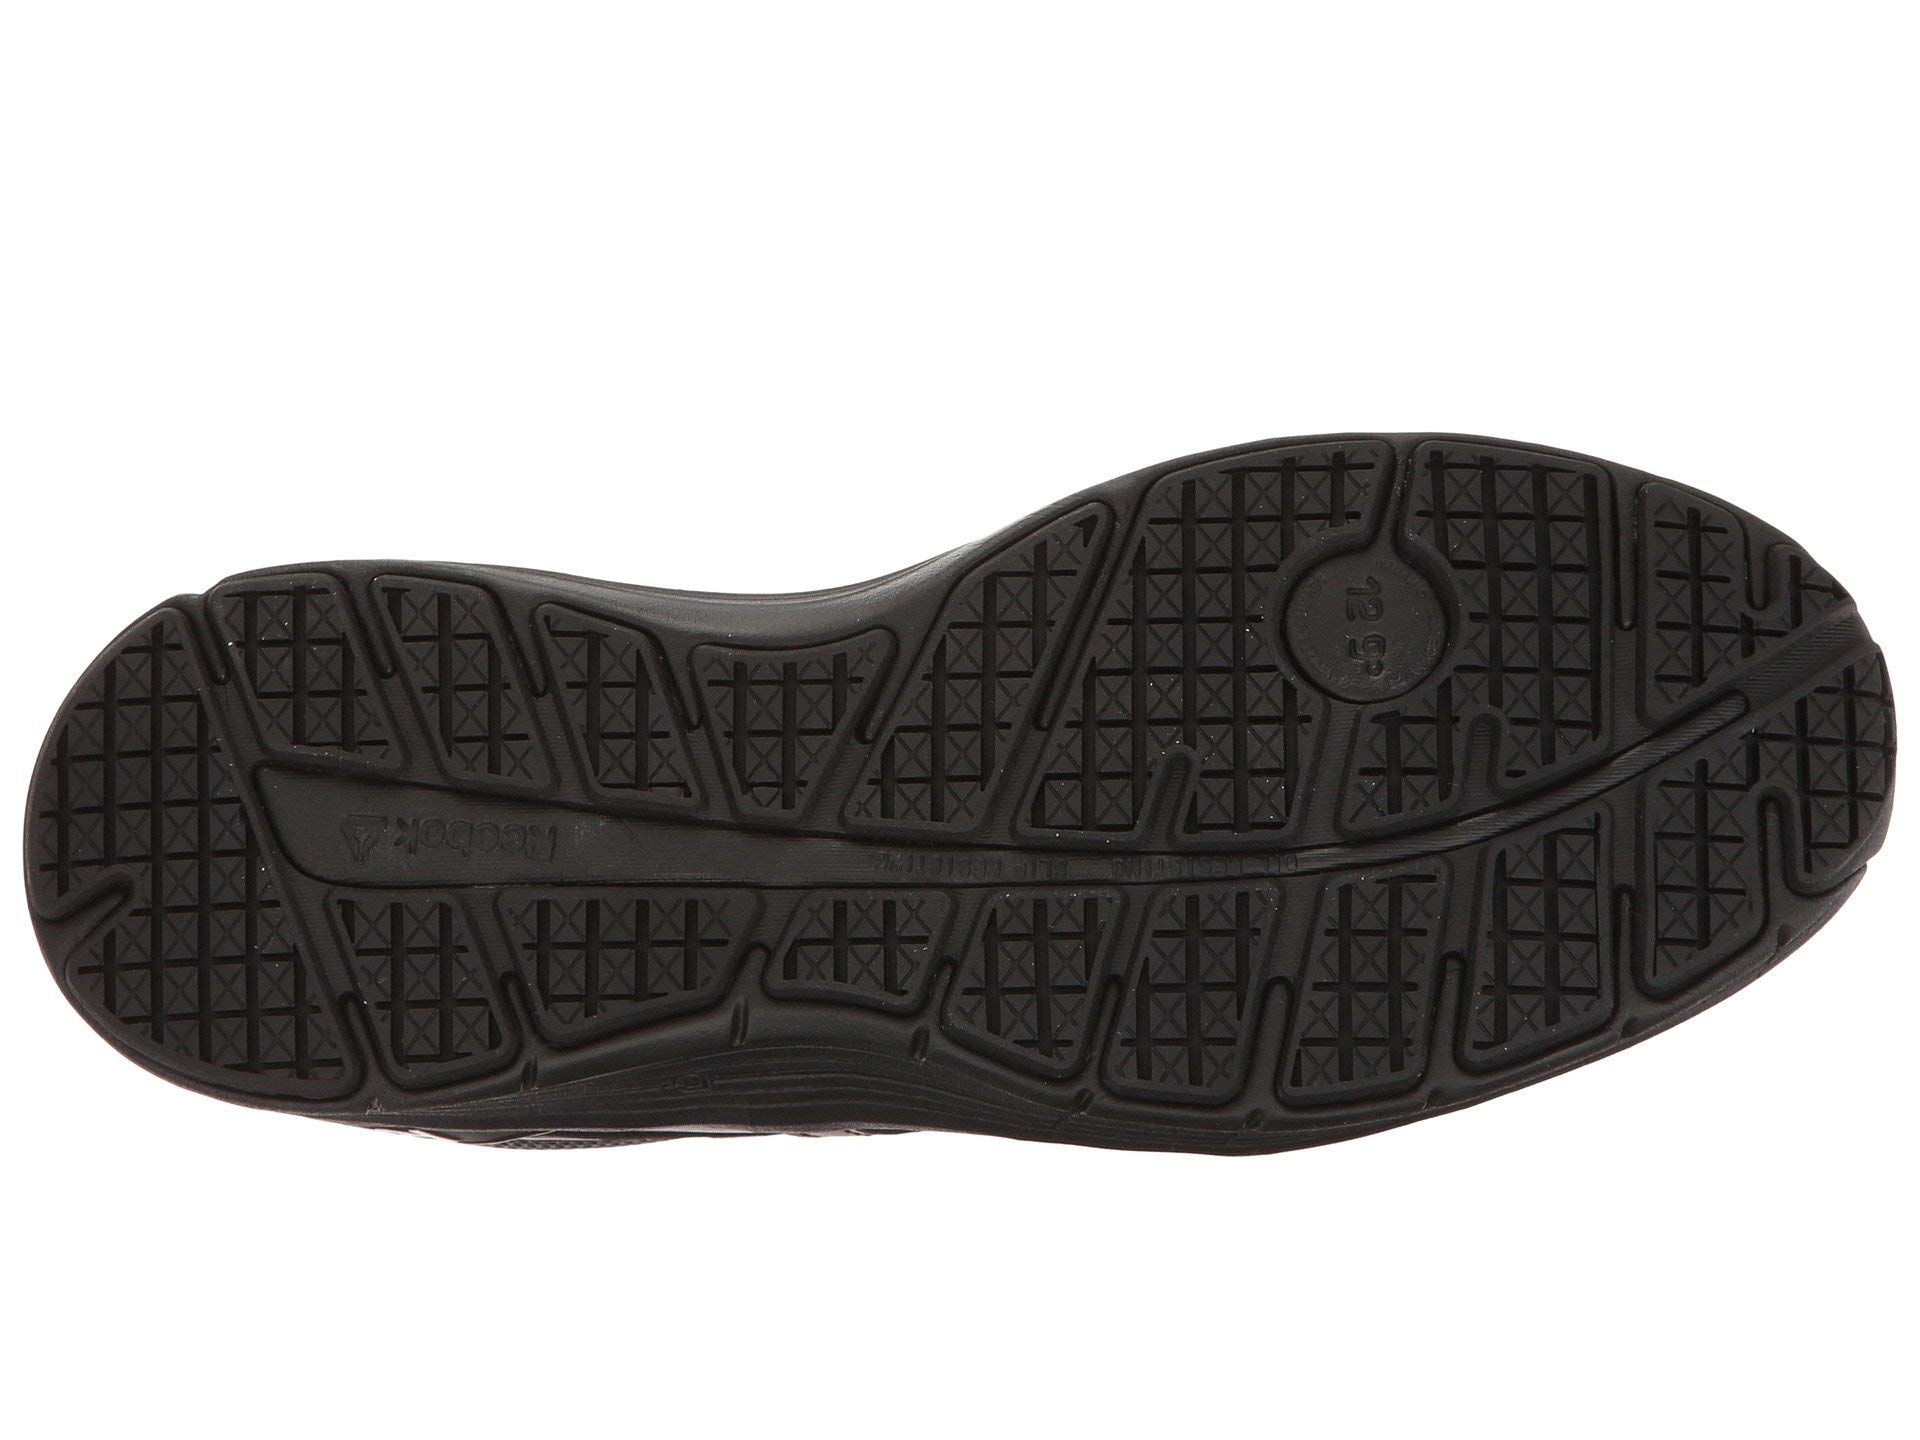line: (965, 635, 1391, 1051)
quad: (965, 635, 1391, 1051)
star: (965, 635, 1391, 1051)
triangle: (965, 635, 1391, 1051)
